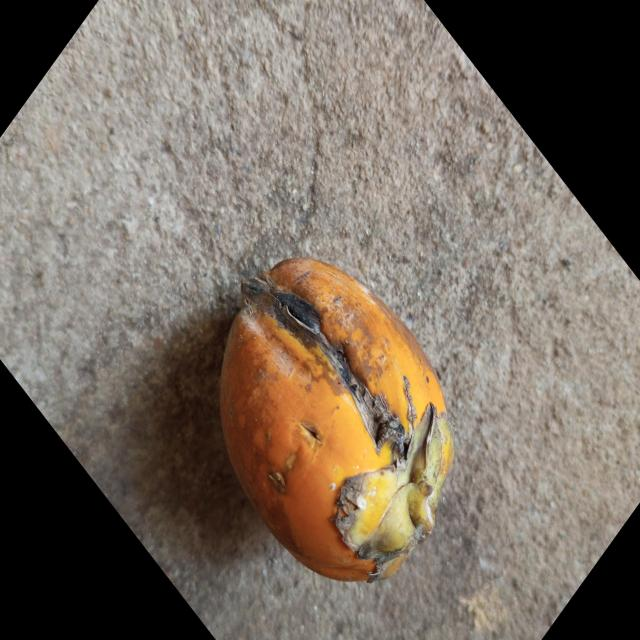damaged: (220, 258, 454, 581)
